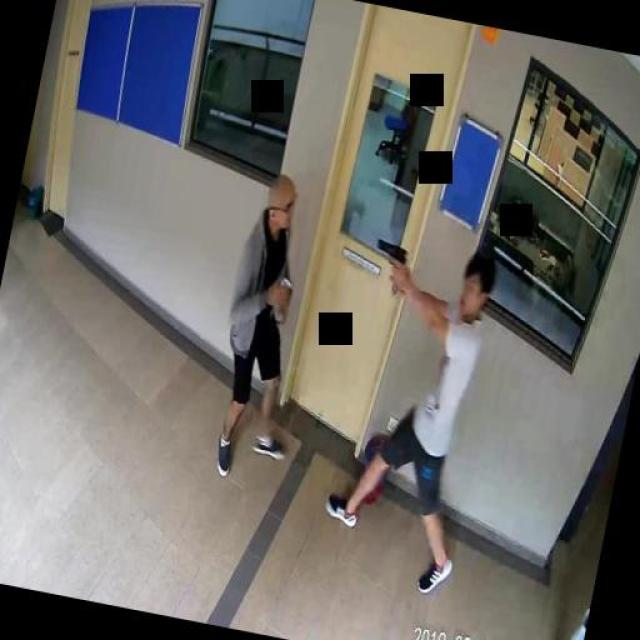gun: (369, 236, 409, 285)
